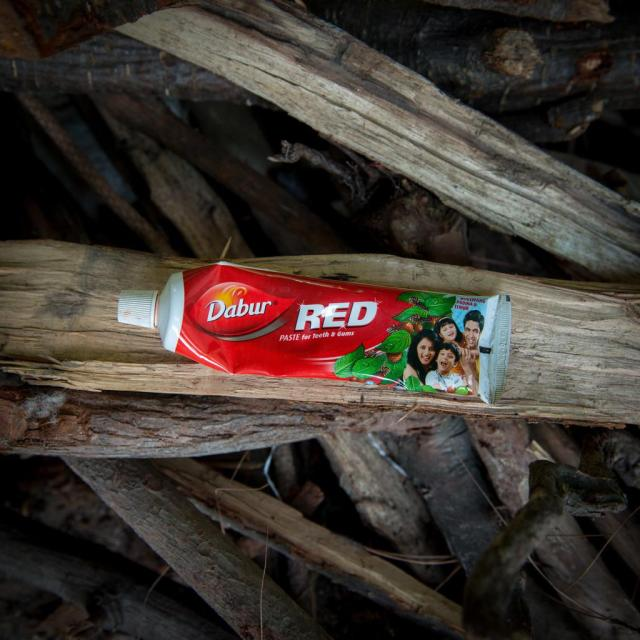Toothpaste: (116, 261, 512, 408)
